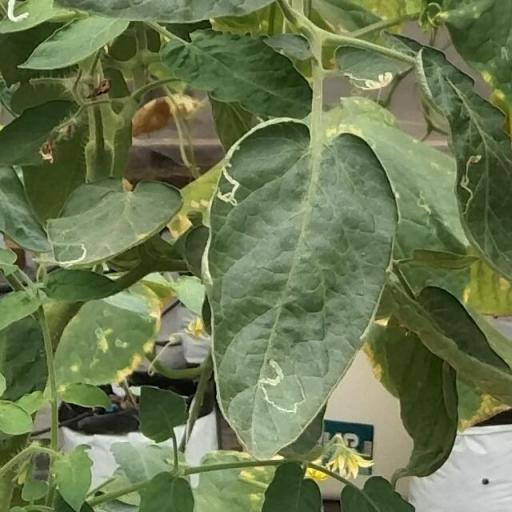Healthy: (158, 26, 313, 119), (15, 14, 130, 71), (259, 461, 323, 512), (137, 384, 189, 445), (54, 443, 94, 512)
Leaf_Miner: (199, 113, 409, 472), (374, 24, 512, 291), (42, 171, 186, 273), (330, 38, 415, 92)
